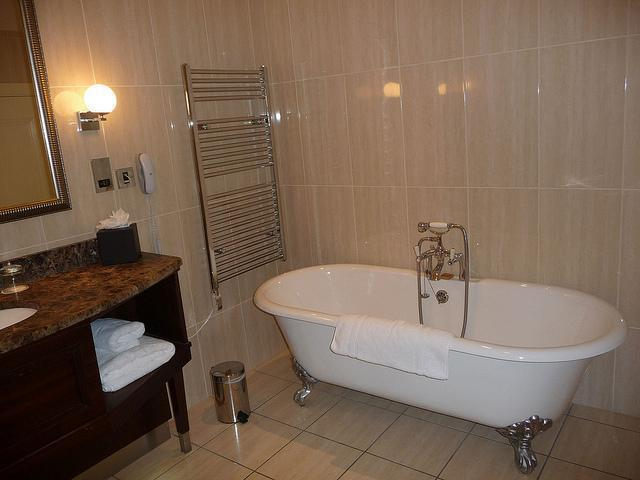Bote de Basura: (203, 359, 252, 430)
Lavamanos: (254, 263, 630, 473)
